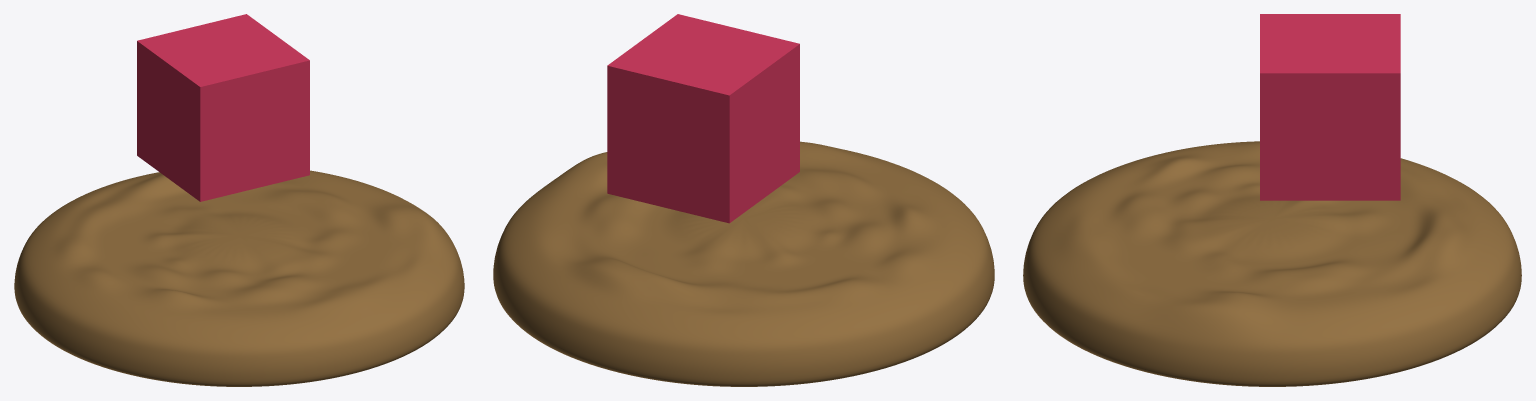
Rendered from hourglass_top.fbx.
3 views of the same model, side by side, from view 1: azimuth 30°, elevation 25°; view 2: azimuth 150°, elevation 25°; view 3: azimuth 270°, elevation 25° (orthographic). The views are drawn at different scales.
Visible parts, largest first — view 1: top of hourglass, Cube; view 2: top of hourglass, Cube; view 3: top of hourglass, Cube.
Part boxes in pixels (<box>): top of hourglass: <box>14,170,464,386</box>; Cube: <box>137,14,309,201</box>; top of hourglass: <box>493,141,994,386</box>; Cube: <box>607,14,799,223</box>; top of hourglass: <box>1023,141,1521,386</box>; Cube: <box>1260,14,1400,200</box>.
Bounding box in the file's own units: 234 × 127 × 234.
